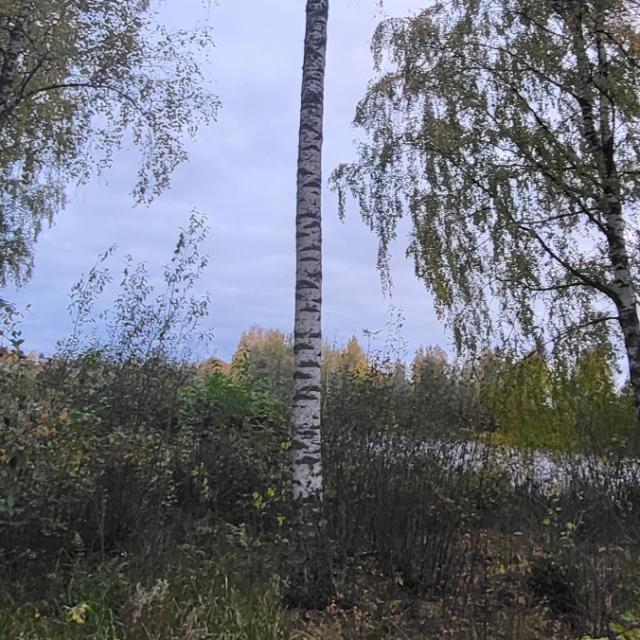birch: (278, 0, 368, 566), (546, 1, 640, 406)
